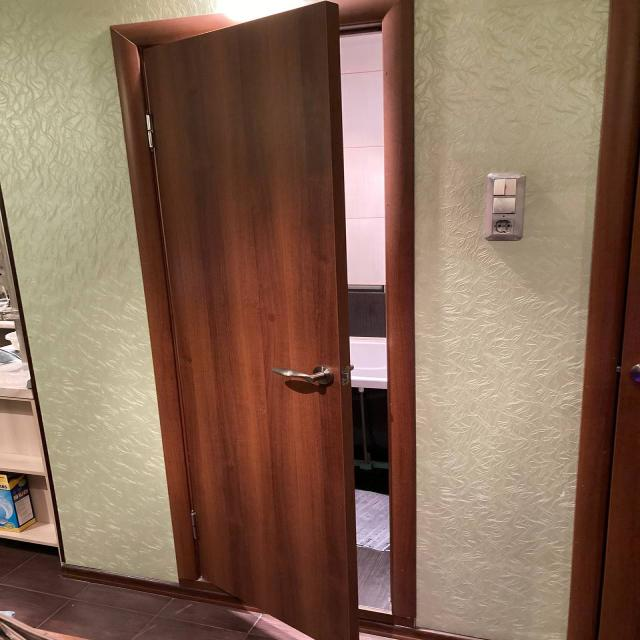open: (113, 29, 440, 618)
